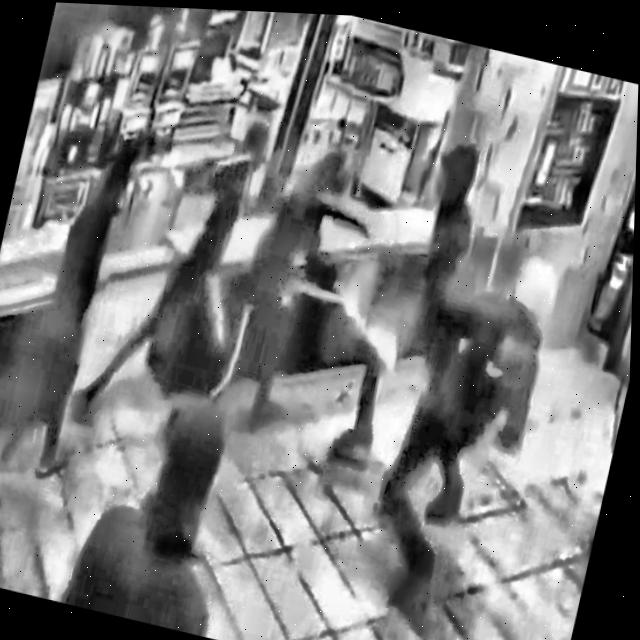robbery: (0, 113, 562, 636)
